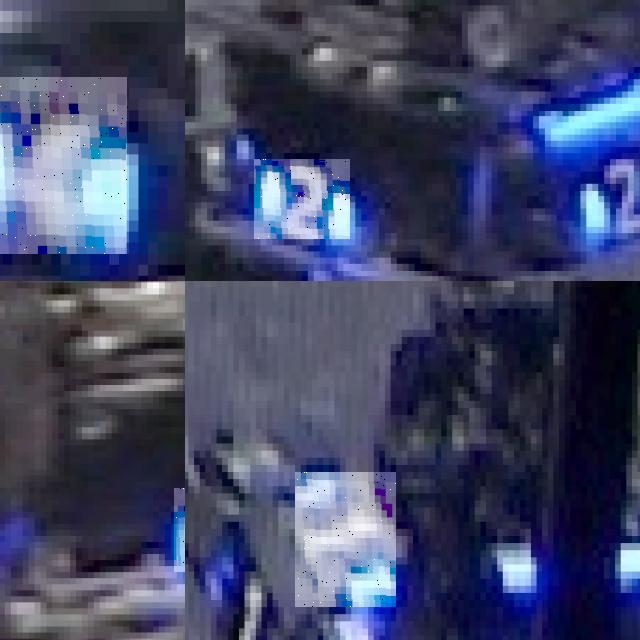B1: (295, 472, 396, 607)
B2: (254, 159, 350, 239), (574, 153, 640, 239)
B4: (0, 77, 128, 253)
